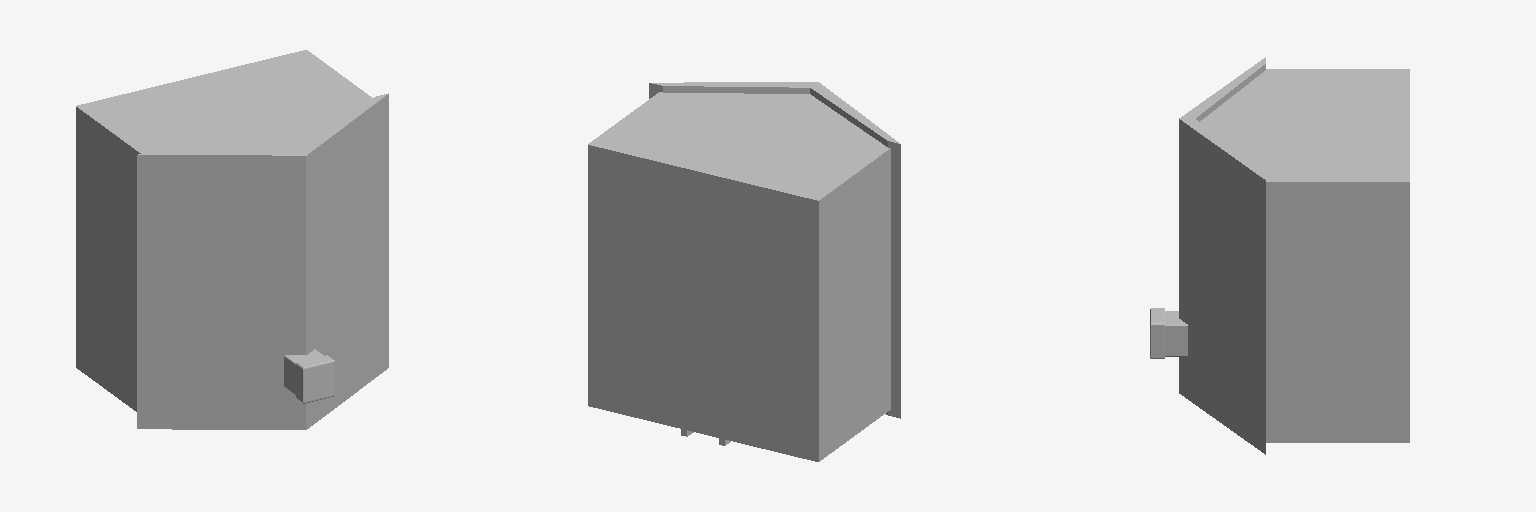
Rendered from house.obj.
3 views of the same model, side by side, from view 1: azimuth 30°, elevation 25°; view 2: azimuth 150°, elevation 25°; view 3: azimuth 270°, elevation 25° (orthographic).
Visible parts, largest first — view 1: obj_0; view 2: obj_0; view 3: obj_0.
Boxes of the visible parts, <box> form: obj_0: <box>76,50,388,429</box>; obj_0: <box>588,82,900,461</box>; obj_0: <box>1150,57,1409,454</box>.
Size of the model in its own units: 40.36 by 42 by 36.